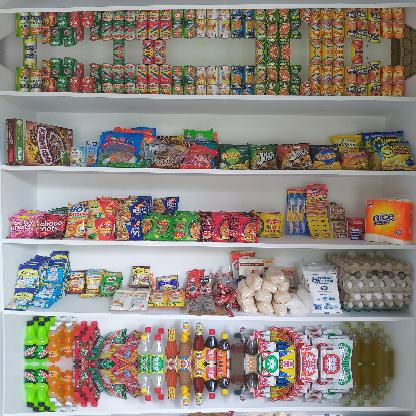Koko-Krunch: (6, 118, 72, 166)
